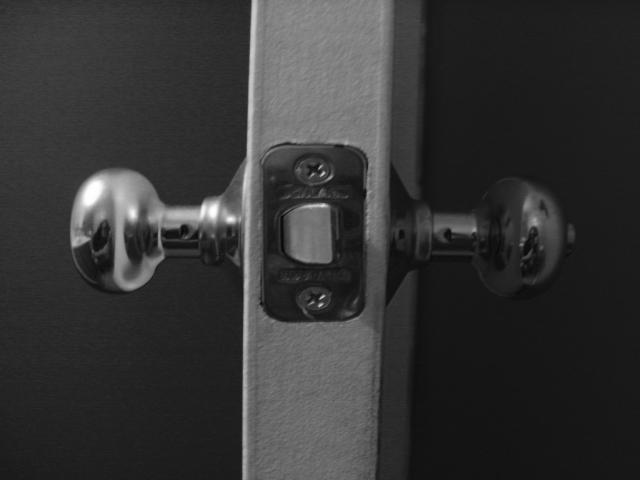Door-handle: (389, 162, 579, 306), (69, 155, 245, 296)
